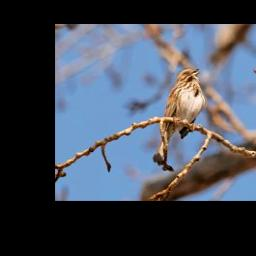Sparrow: (152, 66, 207, 166)
